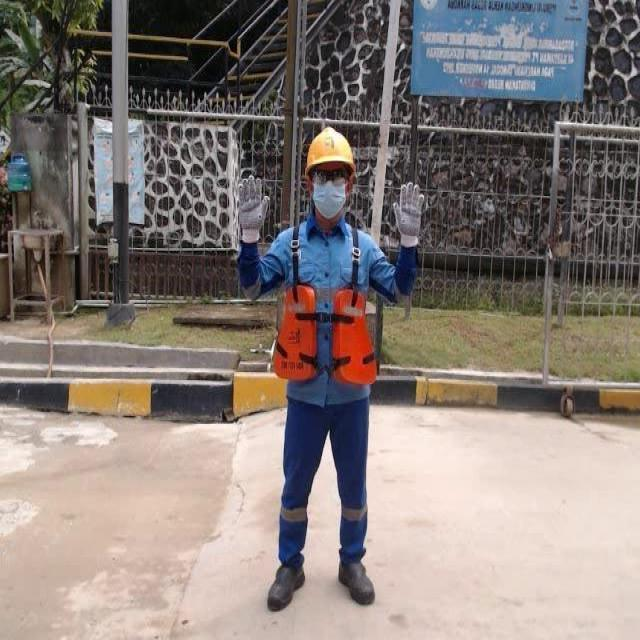gloves: (230, 174, 276, 248), (388, 180, 428, 249)
helmet: (298, 128, 355, 178)
safety_vest: (272, 225, 373, 391)
